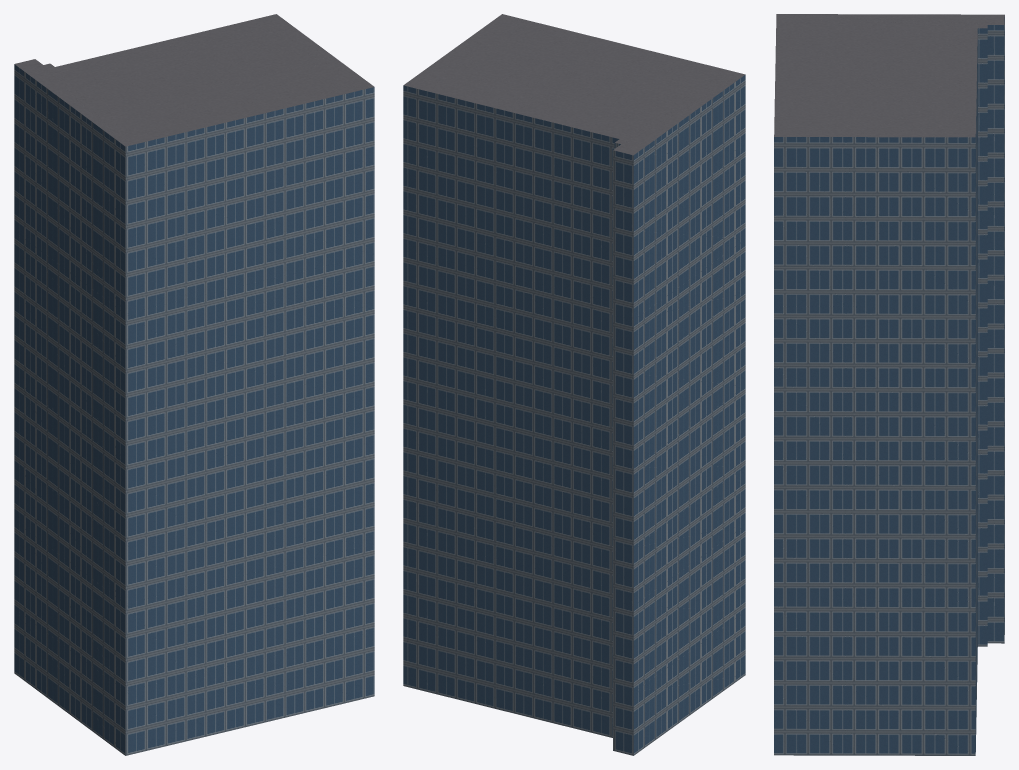
File: bin1016896.glb
3 views of the same model, side by side, from view 1: azimuth 30°, elevation 25°; view 2: azimuth 150°, elevation 25°; view 3: azimuth 270°, elevation 25° (orthographic). The views are drawn at different scales.
Visible parts, largest first — view 1: c23, c7, c20, c22, c4, c17, c6, c1, c19, c3, c16, c0 (+8 smaller); view 2: c7, c4, c6, c1, c3, c31, c0, c2, c5, c28, c15, c12 (+22 smaller); view 3: c23, c44, c47, c46, c41, c43, c7, c40, c42, c20, c45, c22 (+22 smaller).
Boxes of the visible parts, x1,y1,x2,y2 form: c23: (185,61,374,207); c7: (14,59,188,222); c20: (188,308,374,447); c22: (188,163,374,298); c4: (14,286,188,462); c17: (188,544,374,675); c6: (14,141,188,313); c1: (14,521,188,690); c19: (188,403,374,528); c3: (14,381,188,544); c16: (188,631,374,740); c0: (14,609,188,755); c7: (589,59,745,230); c4: (589,293,745,467); c6: (589,150,745,319); c1: (589,525,745,691); c3: (589,387,745,547); c31: (508,70,643,206); c0: (589,611,745,755); c2: (589,467,745,605); c5: (589,239,745,373); c28: (508,330,588,443); c15: (431,80,531,186); c12: (431,310,508,423); c23: (774,45,861,214); c44: (854,359,975,458); c47: (854,110,975,214); c46: (854,211,975,306); c41: (854,598,975,690); c43: (854,455,975,541); c7: (776,14,1004,105); c40: (854,687,975,755); c42: (854,538,975,601); c20: (774,361,845,458); c45: (854,303,975,362); c22: (774,214,845,306).
Size of the model in its own units: 37.93 by 88.61 by 29.96.
Materials: 3 (3 with a texture image).
